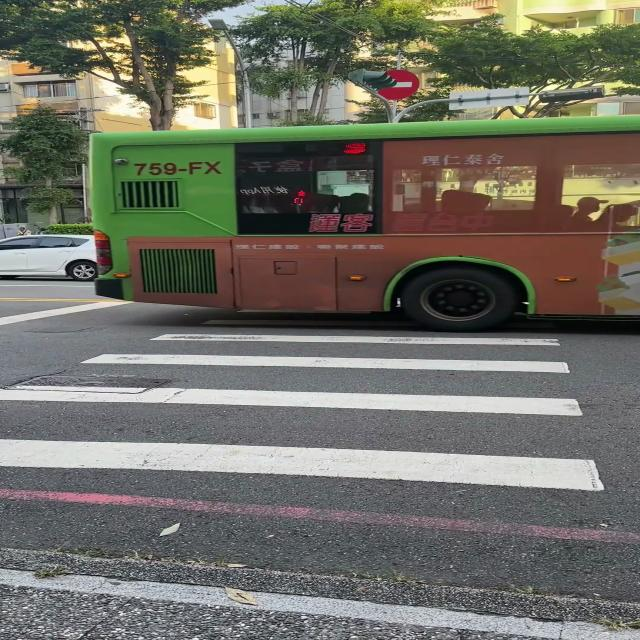bus: (90, 118, 640, 330)
car: (0, 235, 97, 281)
crosswalk: (0, 331, 611, 494)
